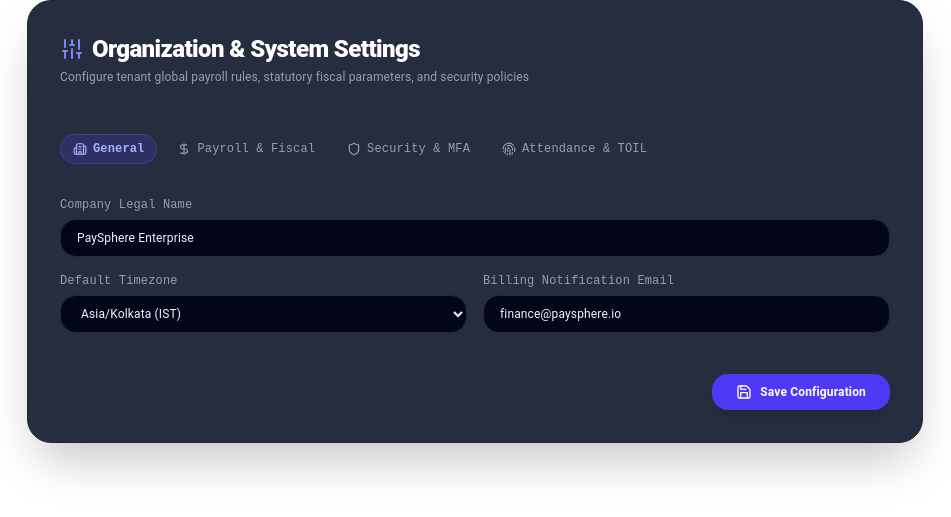
Scenario: SettingsPanel Component › switches between configuration tabs
Click the button "Payroll & Fiscal": (246, 149) [166,134,327,164]
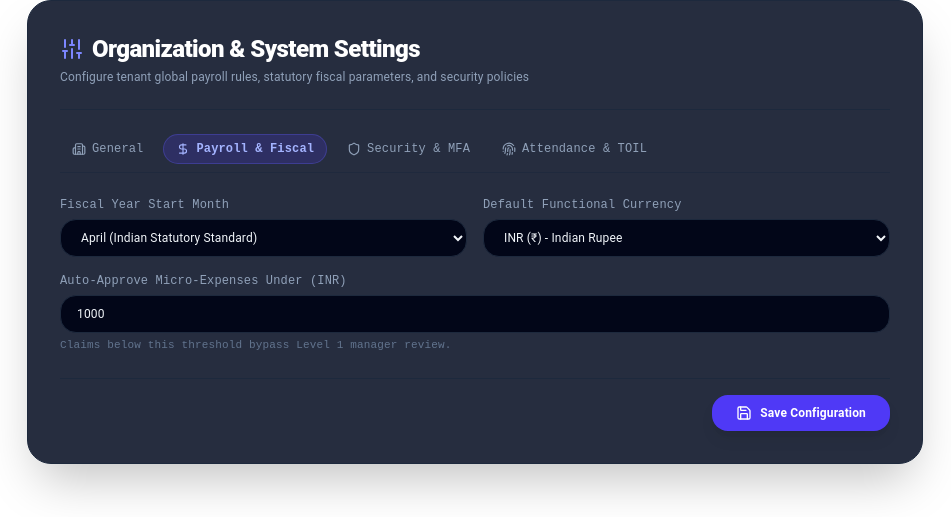
Now the text "Fiscal Year Start Month" is shown, box [60,198,229,212]
Click the button "Security & MFA": (409, 149) [335,134,482,164]
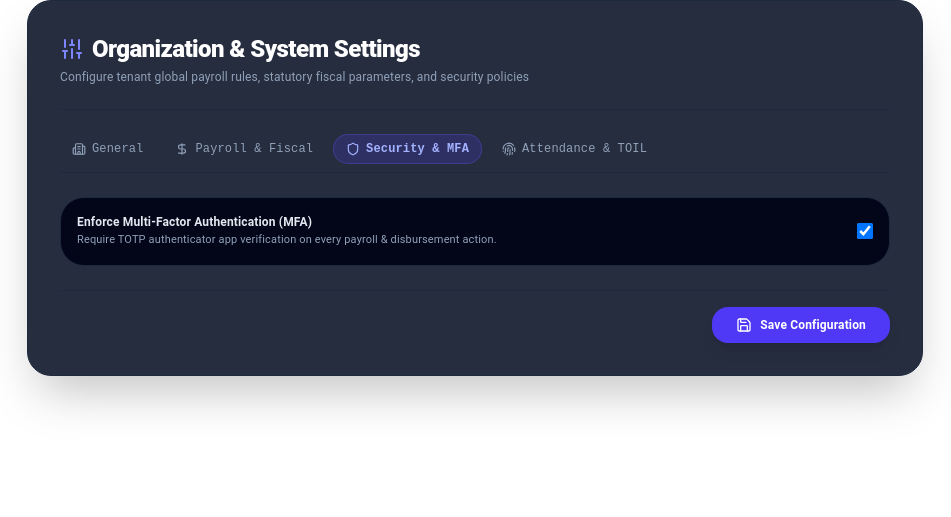
Now the heading "Enforce Multi-Factor Authentication (MFA)" is shown, box [77,215,312,229]
Click the button "Attendance & TOIL": (574, 149) [490,134,659,164]
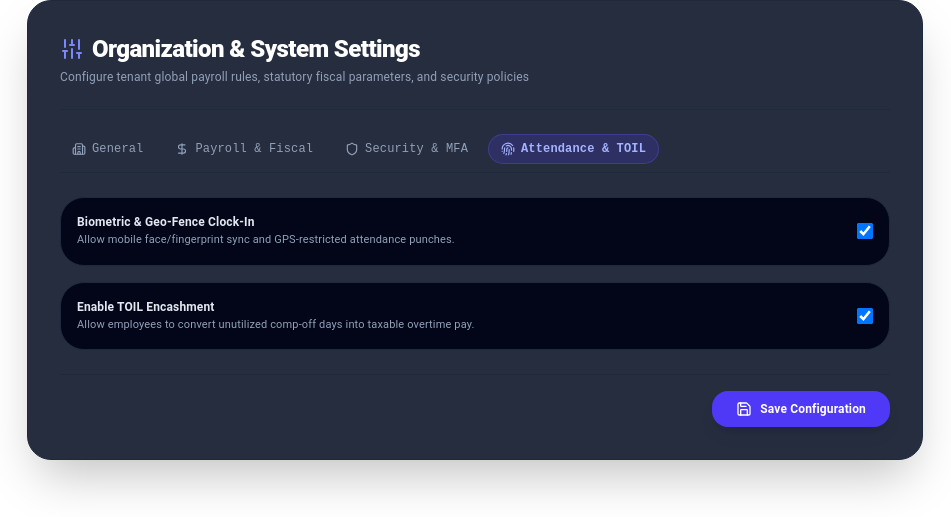
Now the heading "Biometric & Geo-Fence Clock-In" is shown, box [77,215,255,229]
